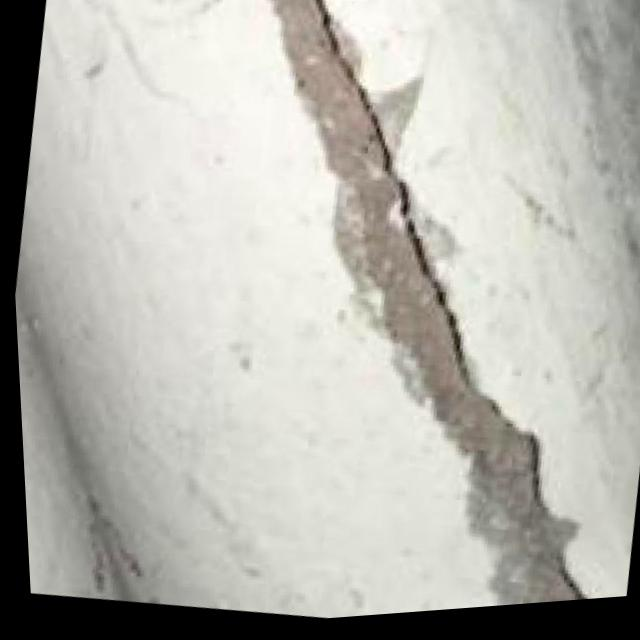Crack: (159, 0, 640, 631)
